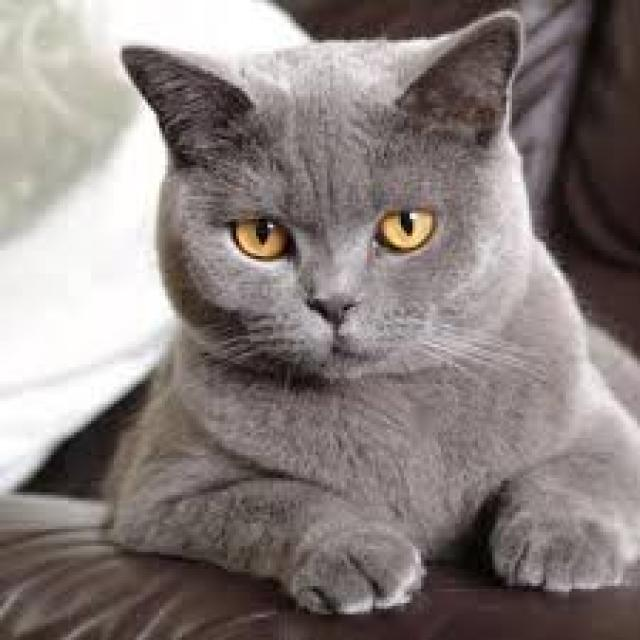Cat: (102, 9, 640, 619)
